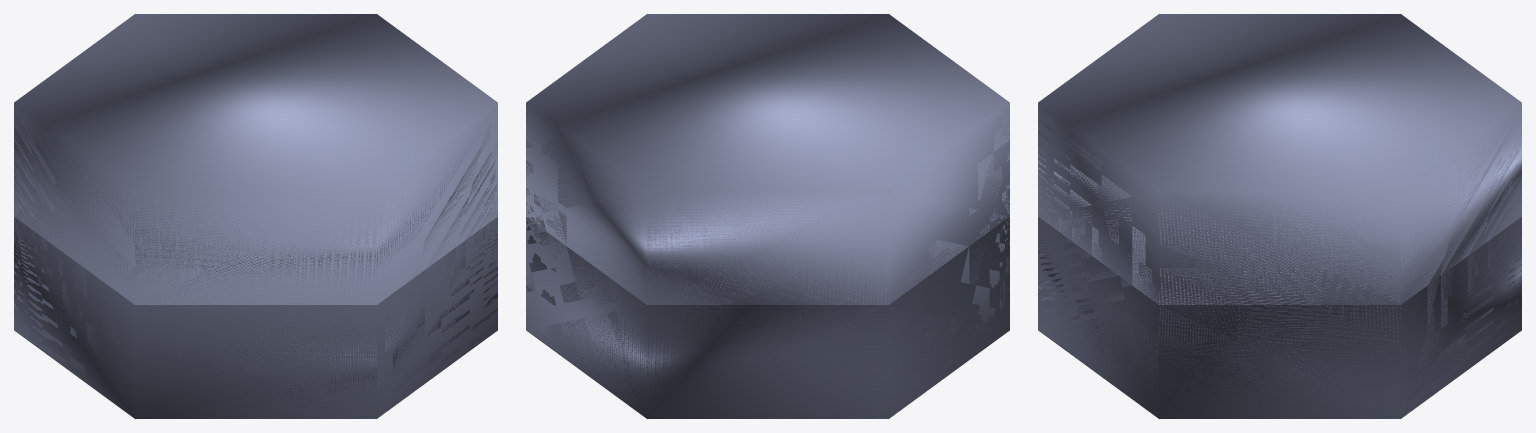
File: tundra_hills.glb
3 views of the same model, side by side, from view 1: azimuth 30°, elevation 25°; view 2: azimuth 150°, elevation 25°; view 3: azimuth 270°, elevation 25° (orthographic).
Parts seen in each view (by area): view 1: grass; view 2: grass; view 3: grass.
Part boxes in pixels (bbox=[...]): grass: bbox=[14, 14, 497, 418]; grass: bbox=[526, 14, 1009, 418]; grass: bbox=[1038, 14, 1521, 418].
Size of the model in its own units: 1 by 0.6 by 1.15.
Materials: 1 (1 with a texture image).
